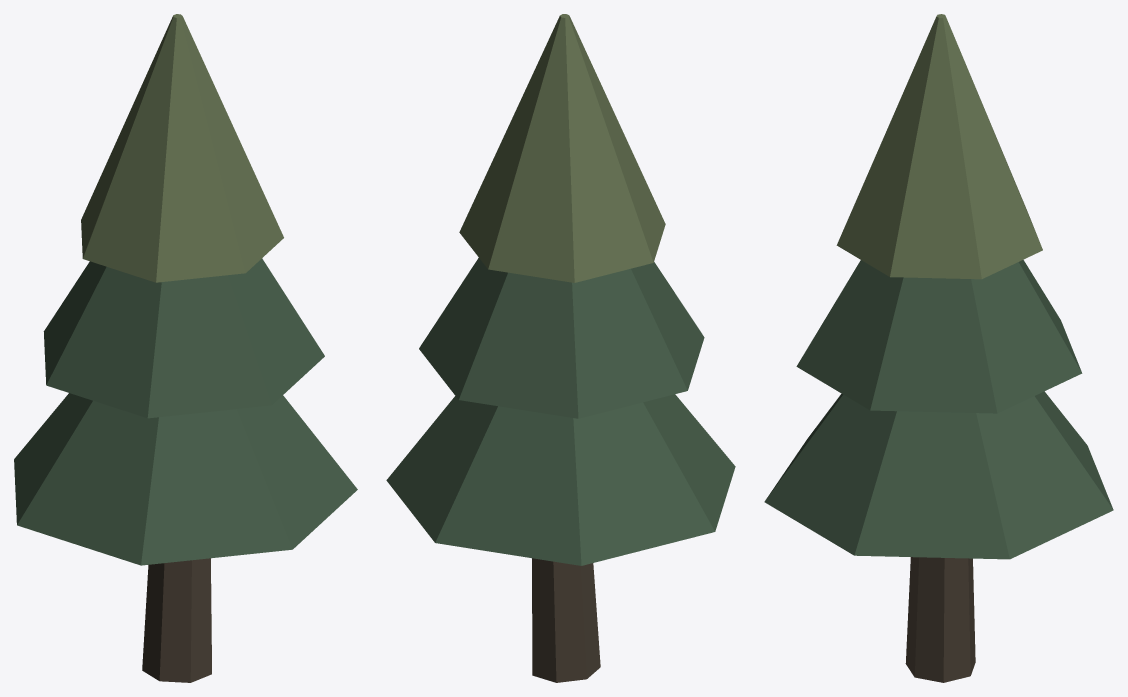
Rendered from NAT_Tree_01_Pine.glb.
3 views of the same model, side by side, from view 1: azimuth 30°, elevation 25°; view 2: azimuth 150°, elevation 25°; view 3: azimuth 270°, elevation 25° (orthographic).
Parts seen in each view (by area): view 1: NAT_Tree_01_Pine; view 2: NAT_Tree_01_Pine; view 3: NAT_Tree_01_Pine.
Part boxes in pixels (x1=…): NAT_Tree_01_Pine: x1=14, y1=14, x2=357, y2=682; NAT_Tree_01_Pine: x1=386, y1=14, x2=735, y2=682; NAT_Tree_01_Pine: x1=764, y1=14, x2=1113, y2=682.
Size of the model in its own units: 2.11 by 4.41 by 2.14.
